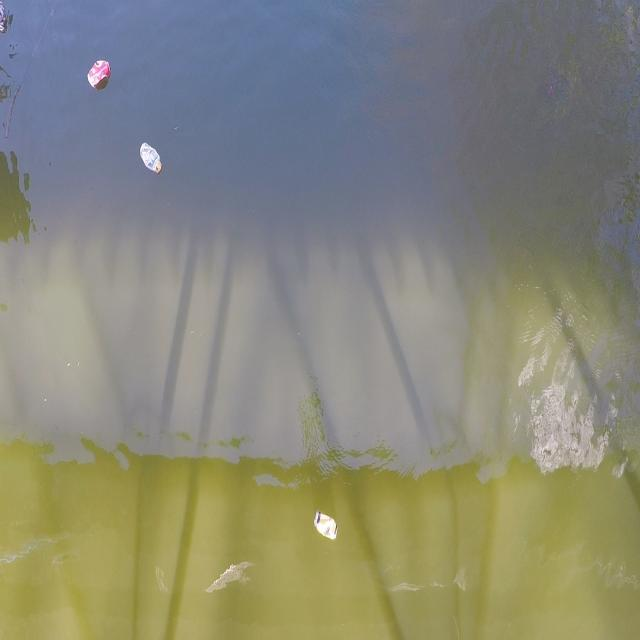Non plastique: (80, 55, 116, 95), (134, 140, 164, 179), (312, 509, 341, 548)
